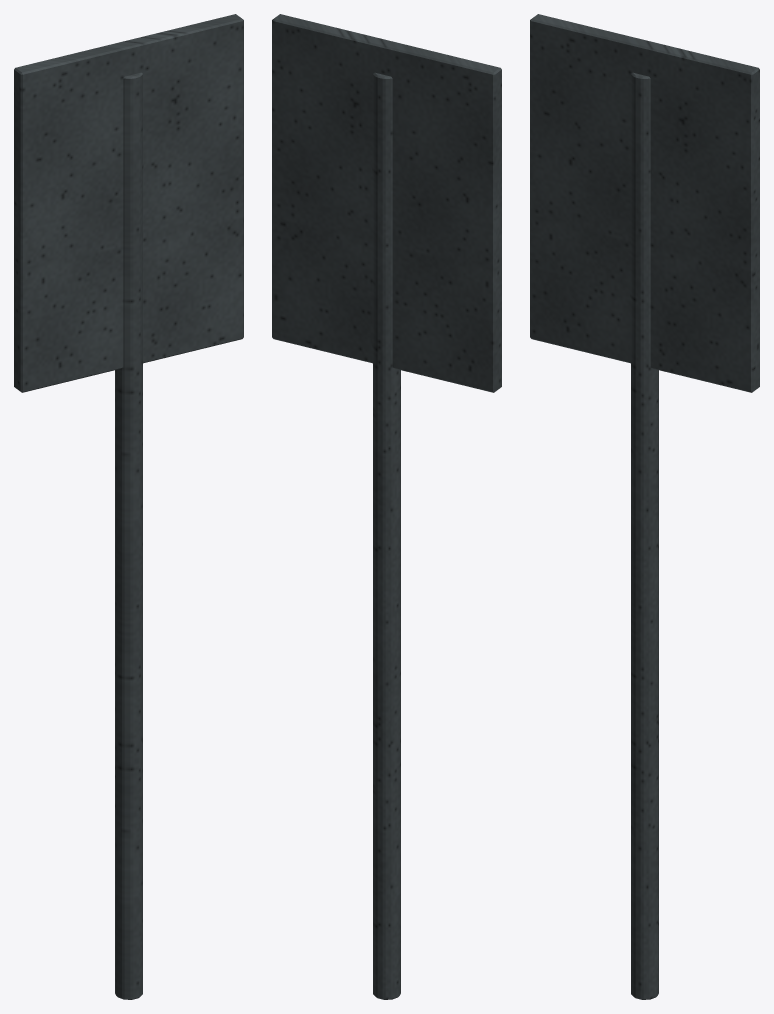
The model's file is PROP-EBB3495928BE_lod1.glb.
The picture shows the model from 3 angles, left to right: view 1: azimuth 30°, elevation 25°; view 2: azimuth 150°, elevation 25°; view 3: azimuth 330°, elevation 25°; orthographic projection.
Visible parts, largest first — view 1: sign_plate.022, sign_post.029; view 2: sign_plate.022, sign_post.029; view 3: sign_plate.022, sign_post.029.
Part boxes in pixels (box(x1,y1,x2,y2)): sign_plate.022: box(14, 14, 243, 392); sign_post.029: box(115, 72, 142, 999); sign_plate.022: box(272, 14, 501, 392); sign_post.029: box(373, 72, 400, 999); sign_plate.022: box(530, 14, 759, 392); sign_post.029: box(631, 72, 658, 999).
Bounding box in the file's own units: 0.62 × 2.52 × 0.0666.
1 material, 1 textured.
